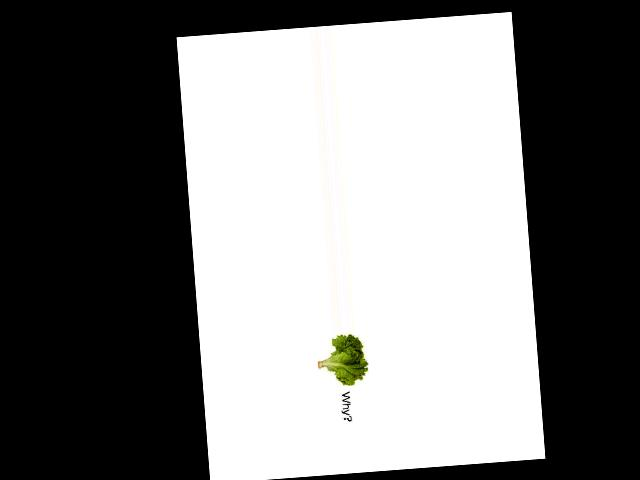lettuce: (314, 331, 370, 392)
